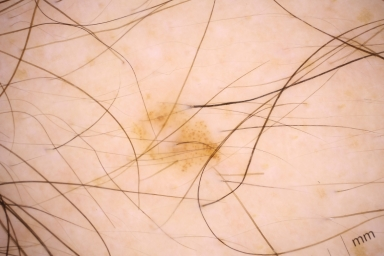melanoma: (136, 102, 218, 168)
